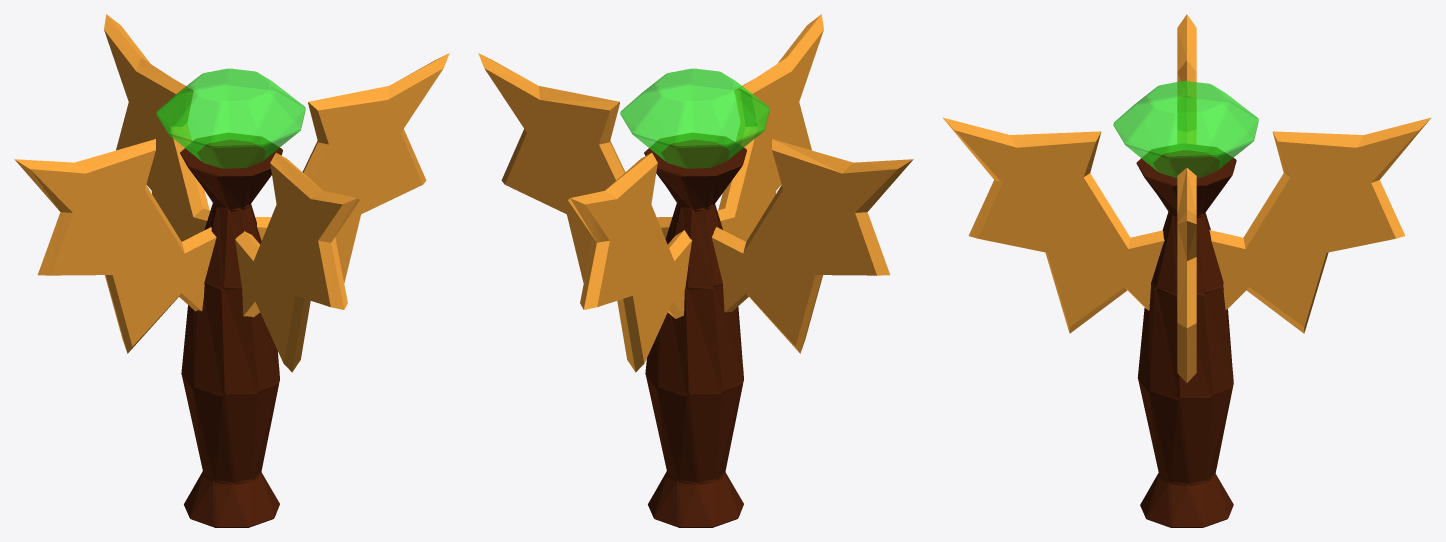
File: WARD.FBX
3 views of the same model, side by side, from view 1: azimuth 30°, elevation 25°; view 2: azimuth 150°, elevation 25°; view 3: azimuth 270°, elevation 25° (orthographic). The views are drawn at different scales.
Parts seen in each view (by area): view 1: WARD; view 2: WARD; view 3: WARD.
Part boxes in pixels (x1=…): WARD: x1=14, y1=14, x2=449, y2=527; WARD: x1=478, y1=14, x2=913, y2=527; WARD: x1=942, y1=14, x2=1431, y2=527.
Size of the model in its own units: 35.92 by 33.39 by 35.92.
